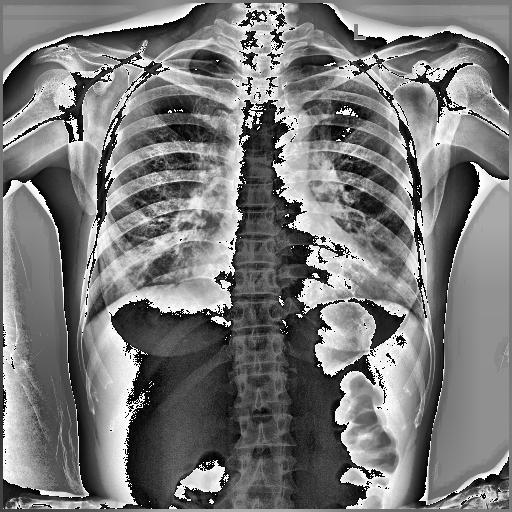3- Cardiomegaly: (184, 240, 382, 302), (192, 248, 391, 299)
5- ILD: (116, 168, 210, 284)
6- Infiltration: (108, 188, 210, 290), (372, 256, 420, 304)
7- Lung Opacity: (108, 188, 210, 290), (372, 256, 420, 304)
9- Other lesion: (108, 188, 210, 290), (372, 256, 420, 304)
